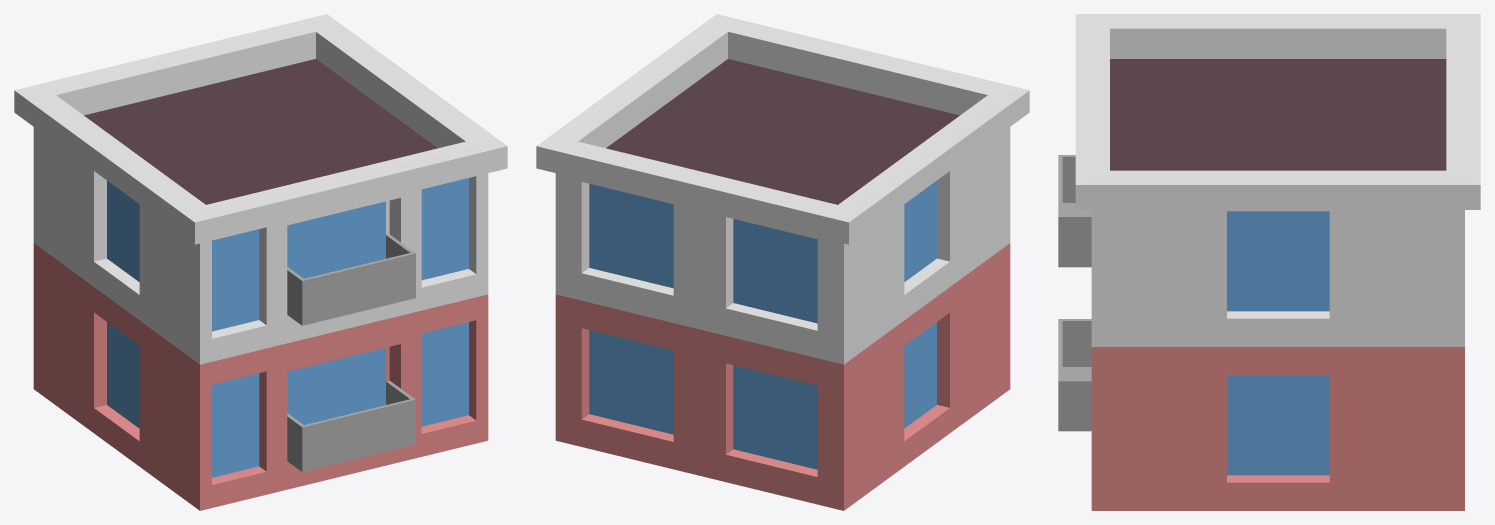
The model's file is building_1x1_5_r.glb.
3 views of the same model, side by side, from view 1: azimuth 30°, elevation 25°; view 2: azimuth 150°, elevation 25°; view 3: azimuth 270°, elevation 25° (orthographic). The views are drawn at different scales.
Parts seen in each view (by area): view 1: Cube.002; view 2: Cube.002; view 3: Cube.002.
Part boxes in pixels (x1=…): Cube.002: x1=14, y1=14, x2=507, y2=510; Cube.002: x1=536, y1=14, x2=1029, y2=510; Cube.002: x1=1058, y1=14, x2=1480, y2=510.
Size of the model in its own units: 1.79 by 1.62 by 1.87.
